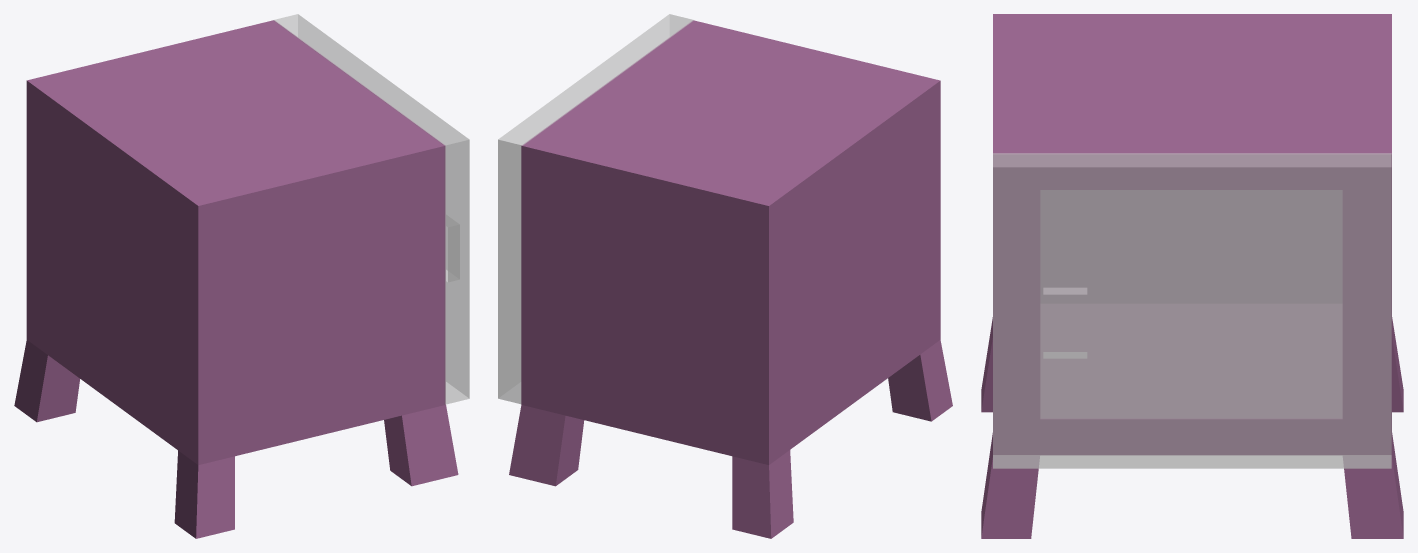
File: bedsideTable.fbx
The picture shows the model from 3 angles, left to right: view 1: azimuth 30°, elevation 25°; view 2: azimuth 150°, elevation 25°; view 3: azimuth 270°, elevation 25°; orthographic projection. The views are drawn at different scales.
Parts seen in each view (by area): view 1: NightTable, NightTableDoor; view 2: NightTable, NightTableDoor; view 3: NightTable, NightTableDoor.
Boxes of the visible parts, x1,y1,x2,y2 form: NightTable: (14, 20, 458, 538); NightTableDoor: (273, 14, 469, 404); NightTable: (509, 20, 952, 538); NightTableDoor: (498, 14, 693, 404); NightTable: (981, 14, 1403, 538); NightTableDoor: (993, 153, 1391, 468).
Size of the model in its own units: 1.17 by 1.26 by 1.27.
